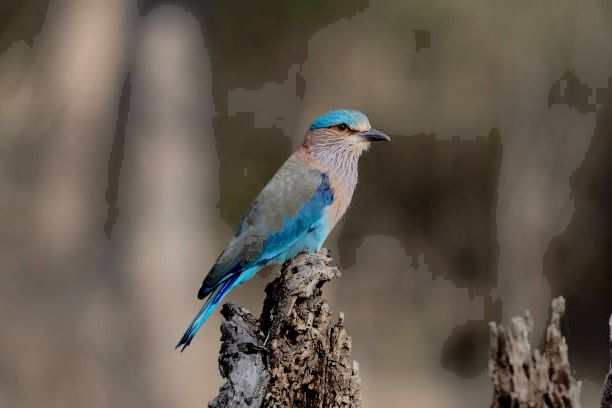Bird: (165, 107, 394, 357)
